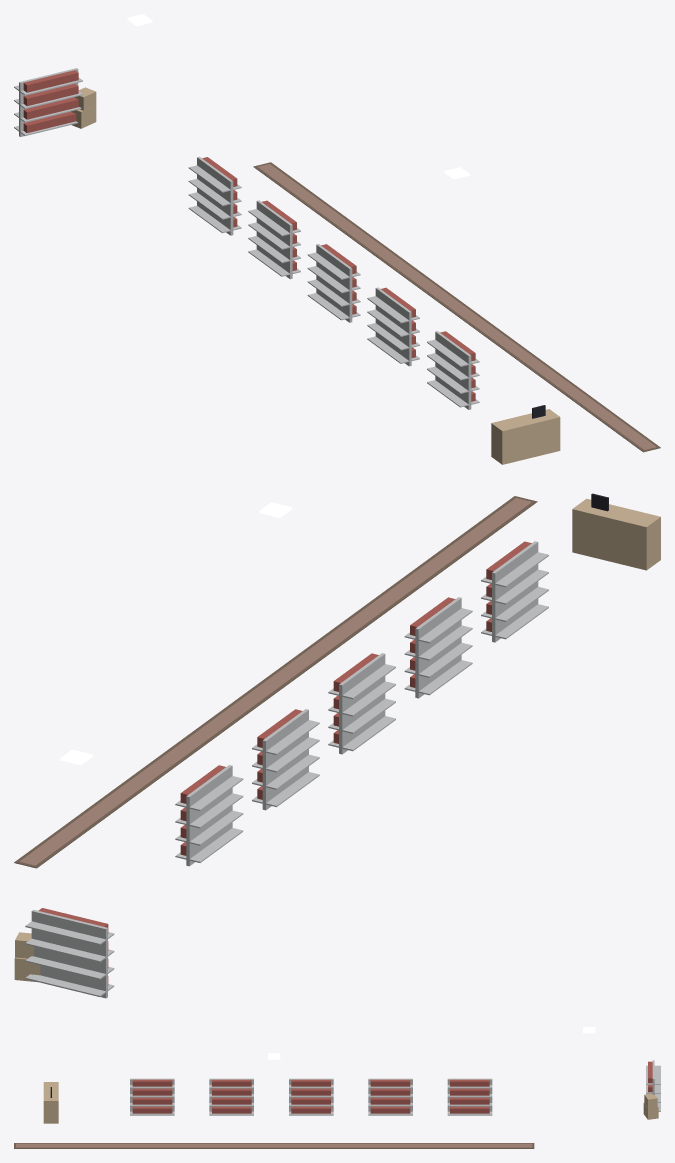
File: fine-s0.glb
The picture shows the model from 3 angles, top to bottom: view 1: azimuth 30°, elevation 25°; view 2: azimuth 150°, elevation 25°; view 3: azimuth 270°, elevation 25°; orthographic projection. The views are drawn at different scales.
Visible parts, largest first — view 1: soft-s0, shelving.000, shop-counter.000, shelf.002, shelf.000, shelf.003, shelf.004, shelf.001, cardboard-box.000; view 2: soft-s0, shelving.000, shop-counter.000, shelf.000, shelf.002, shelf.004, shelf.003, shelf.001, cardboard-box.000; view 3: soft-s0, shelf.000, shelf.001, shelf.002, shelf.003, shelf.004, shop-counter.000, shelving.000, cardboard-box.000.
Part boxes in pixels (x1,y1,x2,y2): soft-s0: (253,162,660,452); shelving.000: (14,68,82,136); shop-counter.000: (491,405,560,464); shelf.002: (307,244,360,322); shelf.000: (188,156,241,235); shelf.003: (367,287,419,366); shelf.004: (427,331,479,409); shelf.001: (248,200,300,279); cardboard-box.000: (71,87,96,128); soft-s0: (14,496,537,868); shelving.000: (25,908,114,998); shop-counter.000: (572,493,660,570); shelf.000: (175,765,243,866); shelf.002: (328,653,395,754); shelf.004: (481,541,548,642); shelf.003: (404,597,472,698); shelf.001: (252,709,319,810); cardboard-box.000: (14,932,40,982); soft-s0: (14,1143,534,1148); shelf.000: (447,1078,492,1115); shelf.001: (368,1078,412,1115); shelf.002: (289,1078,333,1115); shelf.003: (209,1078,253,1115); shelf.004: (130,1078,174,1115); shop-counter.000: (43,1082,58,1123); shelving.000: (646,1060,660,1111); cardboard-box.000: (643,1094,658,1119).
Bounding box in the file's own units: 5.03 × 4.01 × 26.08.
